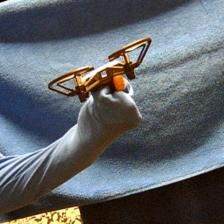drone: (48, 34, 152, 108)
